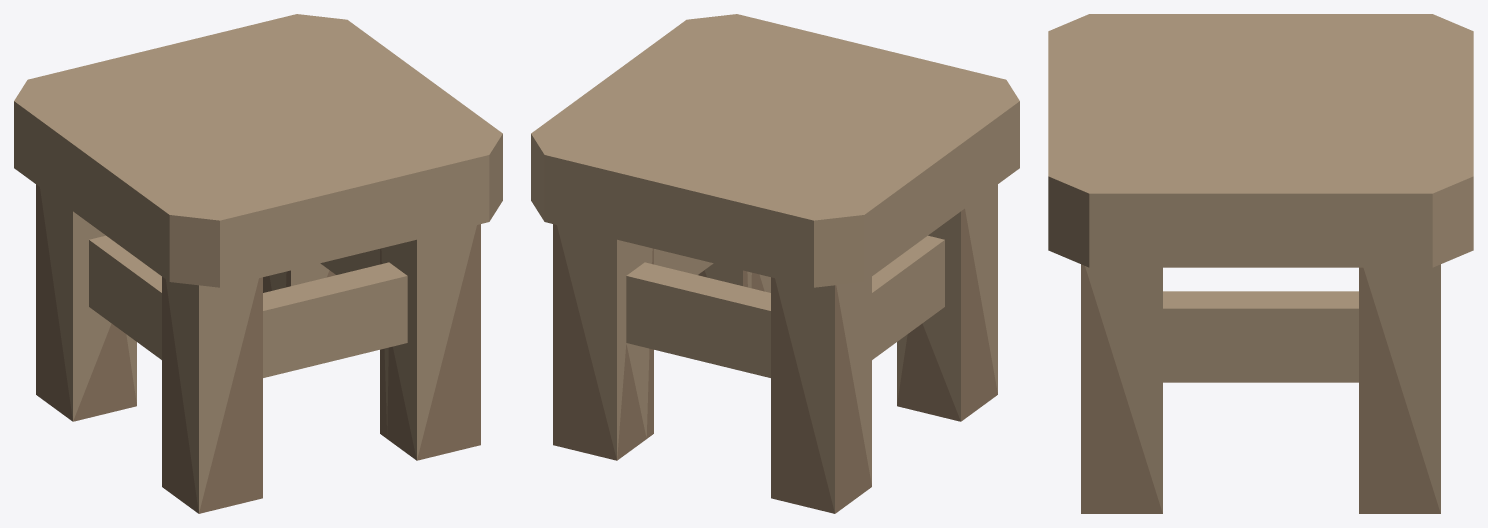
3 views of the same model, side by side, from view 1: azimuth 30°, elevation 25°; view 2: azimuth 150°, elevation 25°; view 3: azimuth 270°, elevation 25° (orthographic). The views are drawn at different scales.
Visible parts, largest first — view 1: model; view 2: model; view 3: model.
Boxes of the visible parts, x1,y1,x2,y2 form: model: (14,14,502,513); model: (531,14,1019,513); model: (1048,14,1473,513).
Size of the model in its own units: 0.65 by 0.5638 by 0.65.
